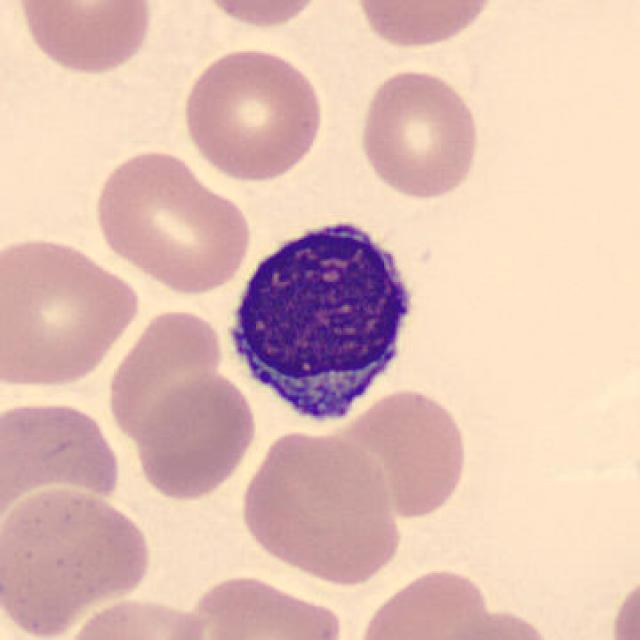Lymphocyte: (215, 204, 430, 433)
RBC: (237, 425, 406, 587), (89, 144, 254, 294), (0, 483, 155, 638), (0, 231, 144, 393), (178, 43, 327, 184), (325, 384, 473, 522), (0, 395, 126, 541), (103, 303, 228, 448), (356, 65, 484, 203), (130, 368, 260, 502), (178, 571, 348, 640), (10, 0, 156, 78), (354, 564, 498, 640), (350, 0, 505, 51), (57, 592, 211, 640), (426, 606, 560, 640), (188, 0, 330, 32), (606, 567, 640, 640)
